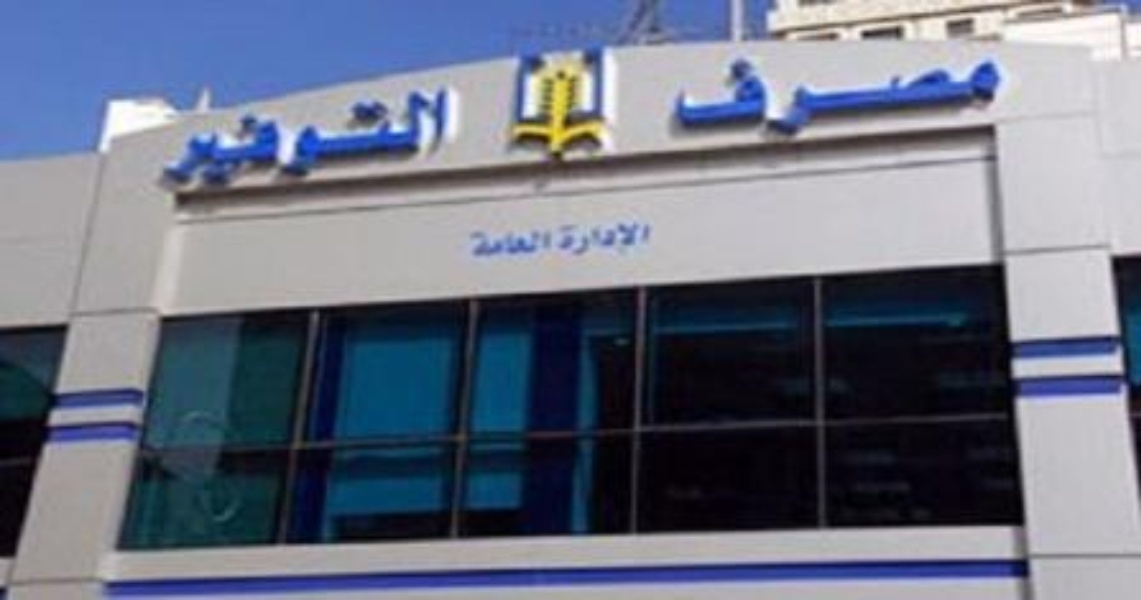text: (193, 85, 208, 192), (209, 85, 224, 192), (225, 85, 240, 192), (241, 85, 256, 192), (257, 85, 272, 192), (273, 85, 288, 192), (289, 85, 304, 192), (305, 85, 320, 192), (321, 85, 336, 192), (337, 85, 352, 192), (353, 85, 368, 192), (369, 85, 384, 192), (385, 85, 400, 192), (401, 85, 416, 192), (417, 85, 432, 192), (433, 85, 448, 192), (449, 85, 463, 192), (673, 52, 688, 146), (689, 52, 704, 146), (705, 52, 720, 146), (721, 52, 736, 146), (737, 52, 752, 146), (753, 52, 768, 146), (769, 52, 784, 146), (785, 52, 800, 146), (801, 52, 816, 146), (817, 52, 832, 146), (833, 52, 848, 146), (849, 52, 864, 146), (865, 52, 880, 146), (881, 52, 896, 146), (897, 52, 912, 146), (913, 52, 928, 146), (929, 52, 944, 146), (945, 52, 960, 146), (961, 52, 976, 146), (977, 52, 992, 146), (179, 85, 192, 192), (993, 52, 1004, 146), (561, 220, 576, 256), (577, 220, 592, 256), (593, 220, 608, 256), (609, 220, 624, 256), (625, 220, 640, 256), (465, 225, 480, 258), (481, 225, 496, 258), (497, 225, 512, 258), (513, 225, 528, 258), (529, 225, 544, 258), (667, 52, 672, 146), (641, 220, 651, 256), (545, 225, 554, 258), (554, 220, 560, 256)
